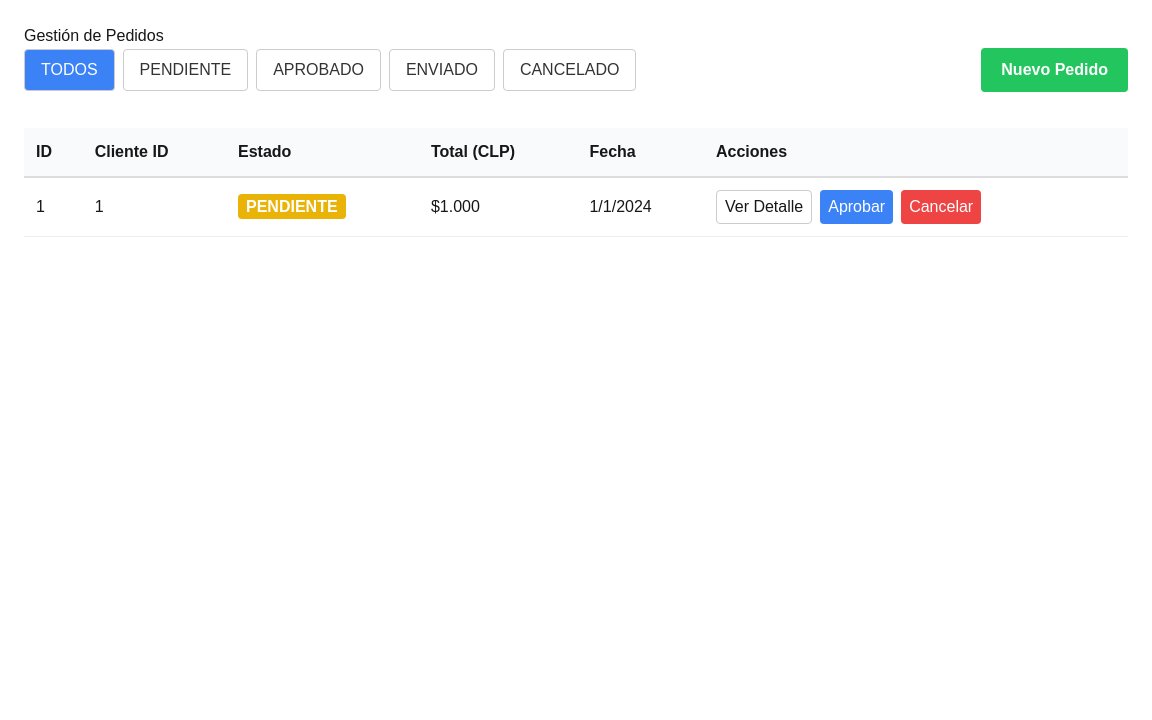
Test case: actualizarEstado fallido muestra feedback al usuario
Click the button "Aprobar": {"x": 857, "y": 207} [820, 190, 893, 224]
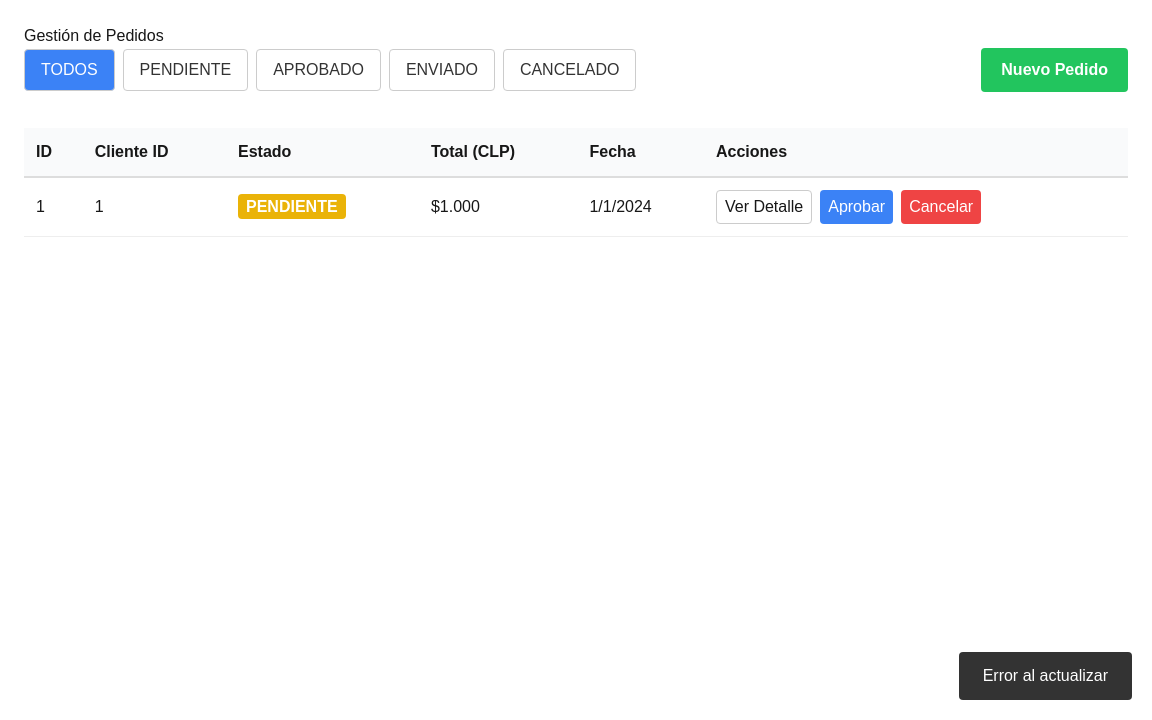
Check: the text "Error al actualizar" is shown, box [959, 652, 1132, 700]
